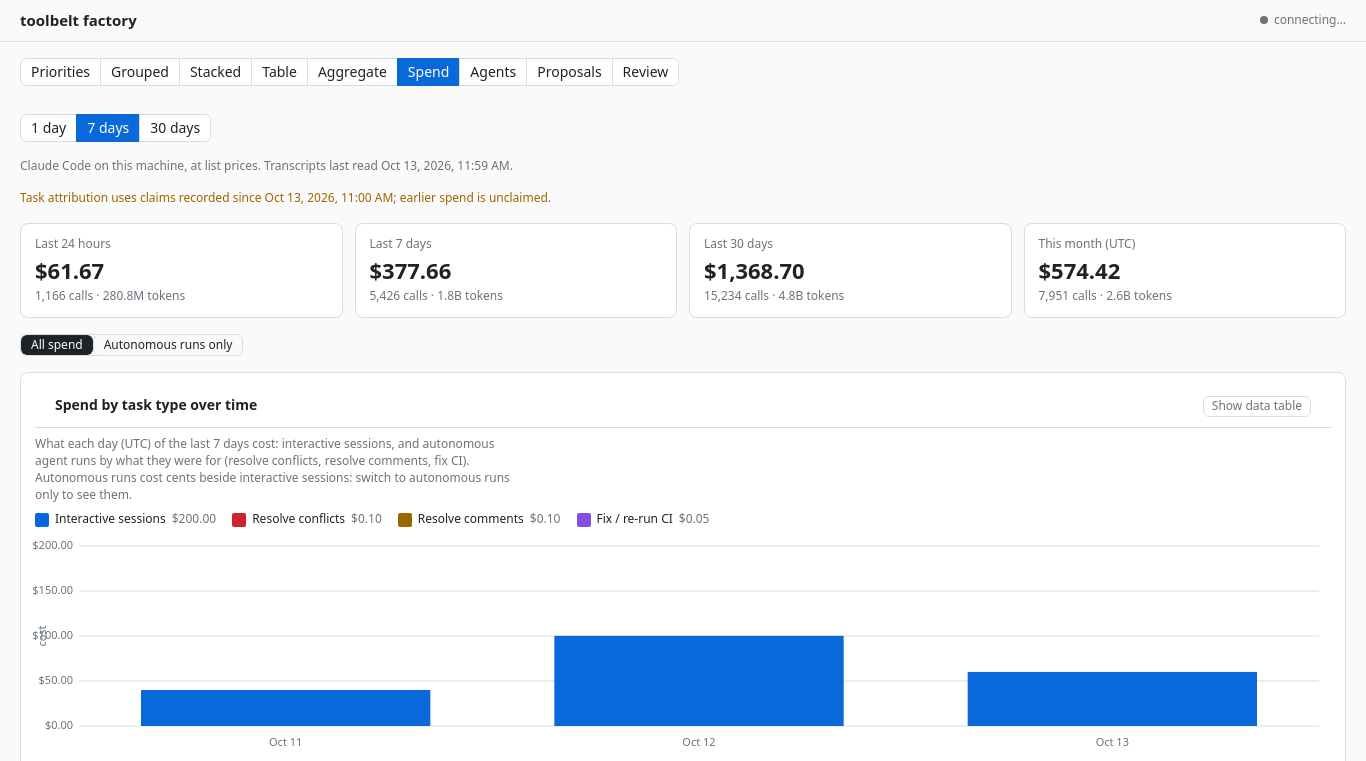
the spend view › the window buttons refetch the breakdown
The width and height of the screenshot is (1366, 761).
Expected: the text "$61.67" is shown, [35,255,104,285]
Click the button "30 days": [175, 128] box [139,114,211,142]
(page scrolled)
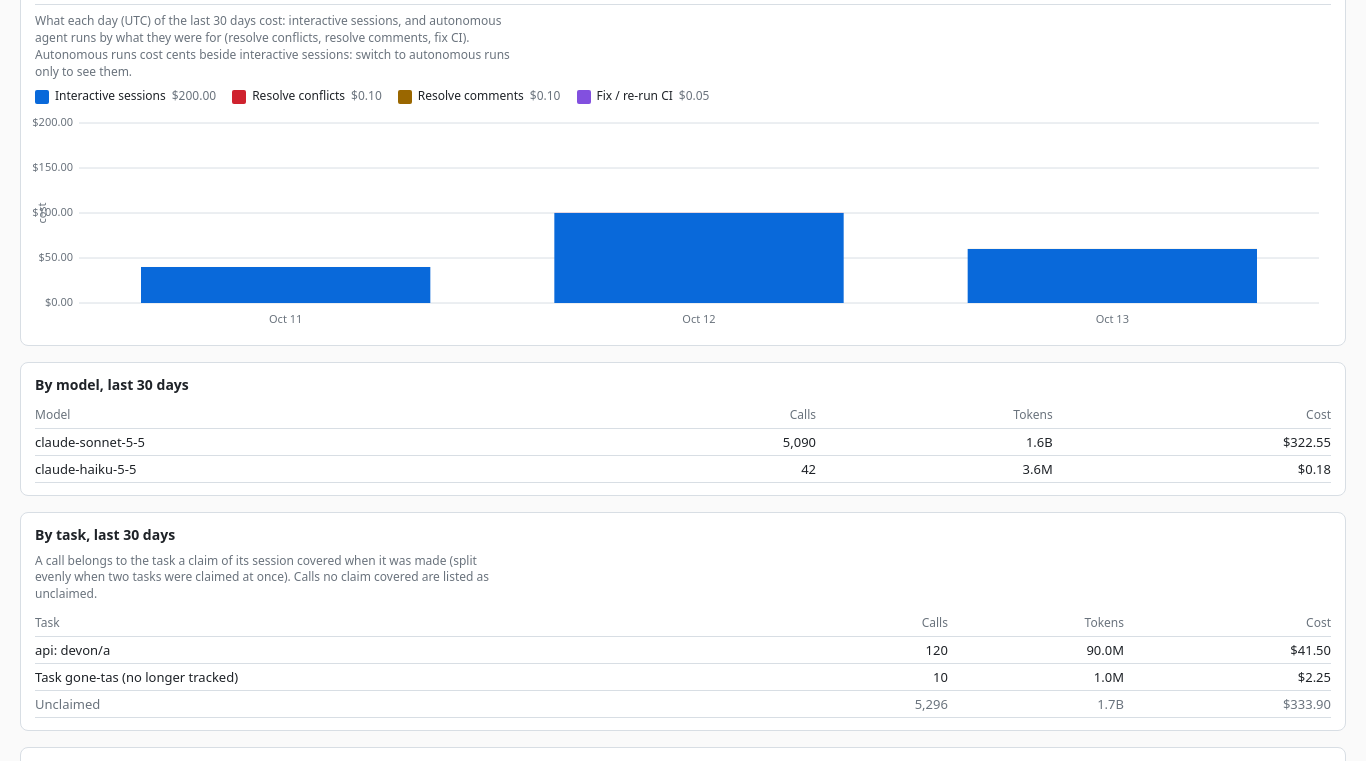
Expected: the heading "By model, last 30 days" is shown, [35,375,189,394]
